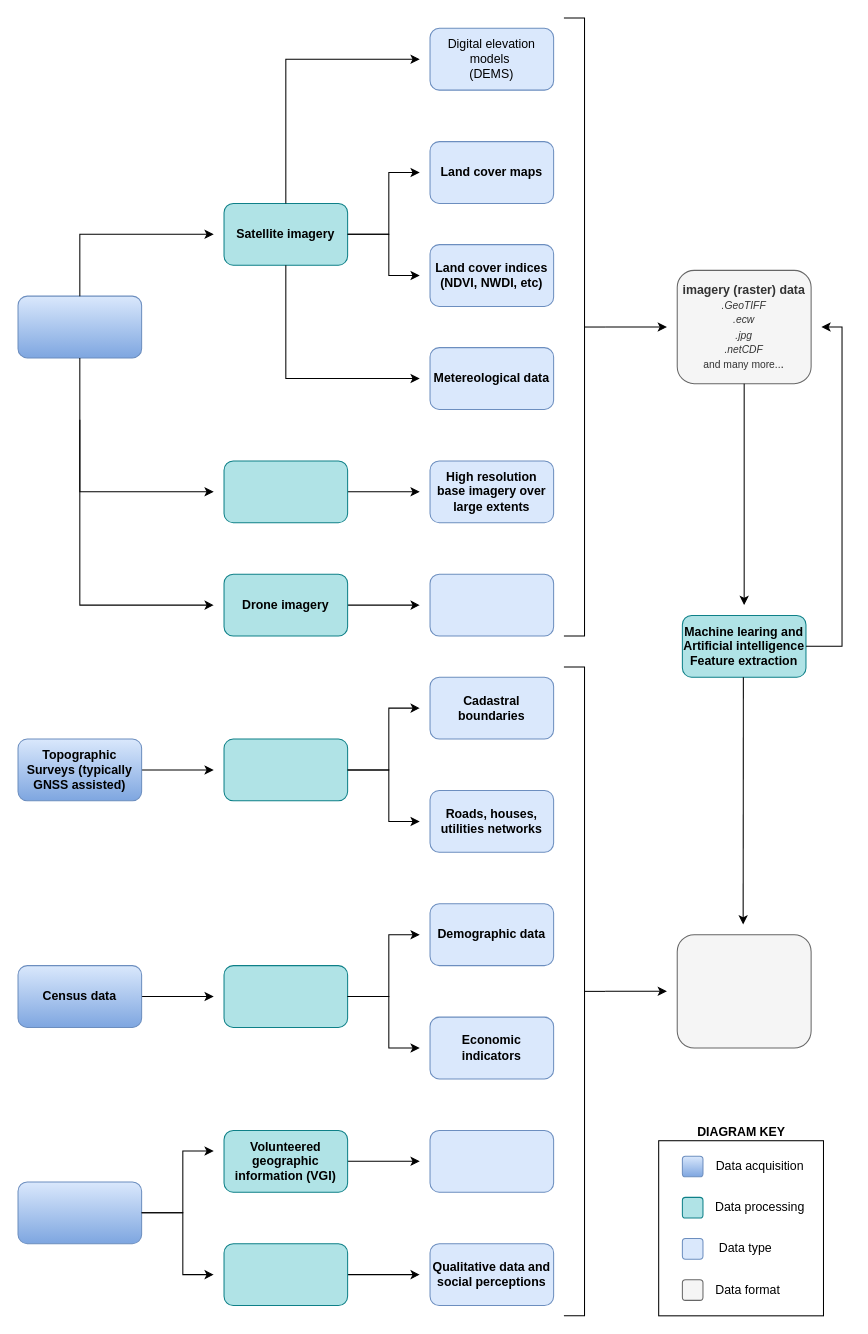
The diagram is 868 pixels wide and 1334 high, and some of its shapes have lost their labels. The box of each missing label's shape, as (x1, y1, x2, y2) in pixels:
Aerial photography: (223, 460, 348, 523)
Aggregation at contry, district and household level: (223, 965, 348, 1027)
Crowd sourced data: (17, 1181, 142, 1244)
High resolution base imagery over smaller extents: (429, 573, 554, 636)
Human made and natural topographic elements: (429, 1129, 554, 1192)
Human-mande topographic elements (very high precision): (223, 738, 348, 801)
Remote sensing: (17, 295, 142, 358)
Social media and media repositories APIs: (223, 1243, 348, 1306)
vector (geometries) data .shp .gpkg .dgw .json and many more.. .: (676, 934, 811, 1048)
